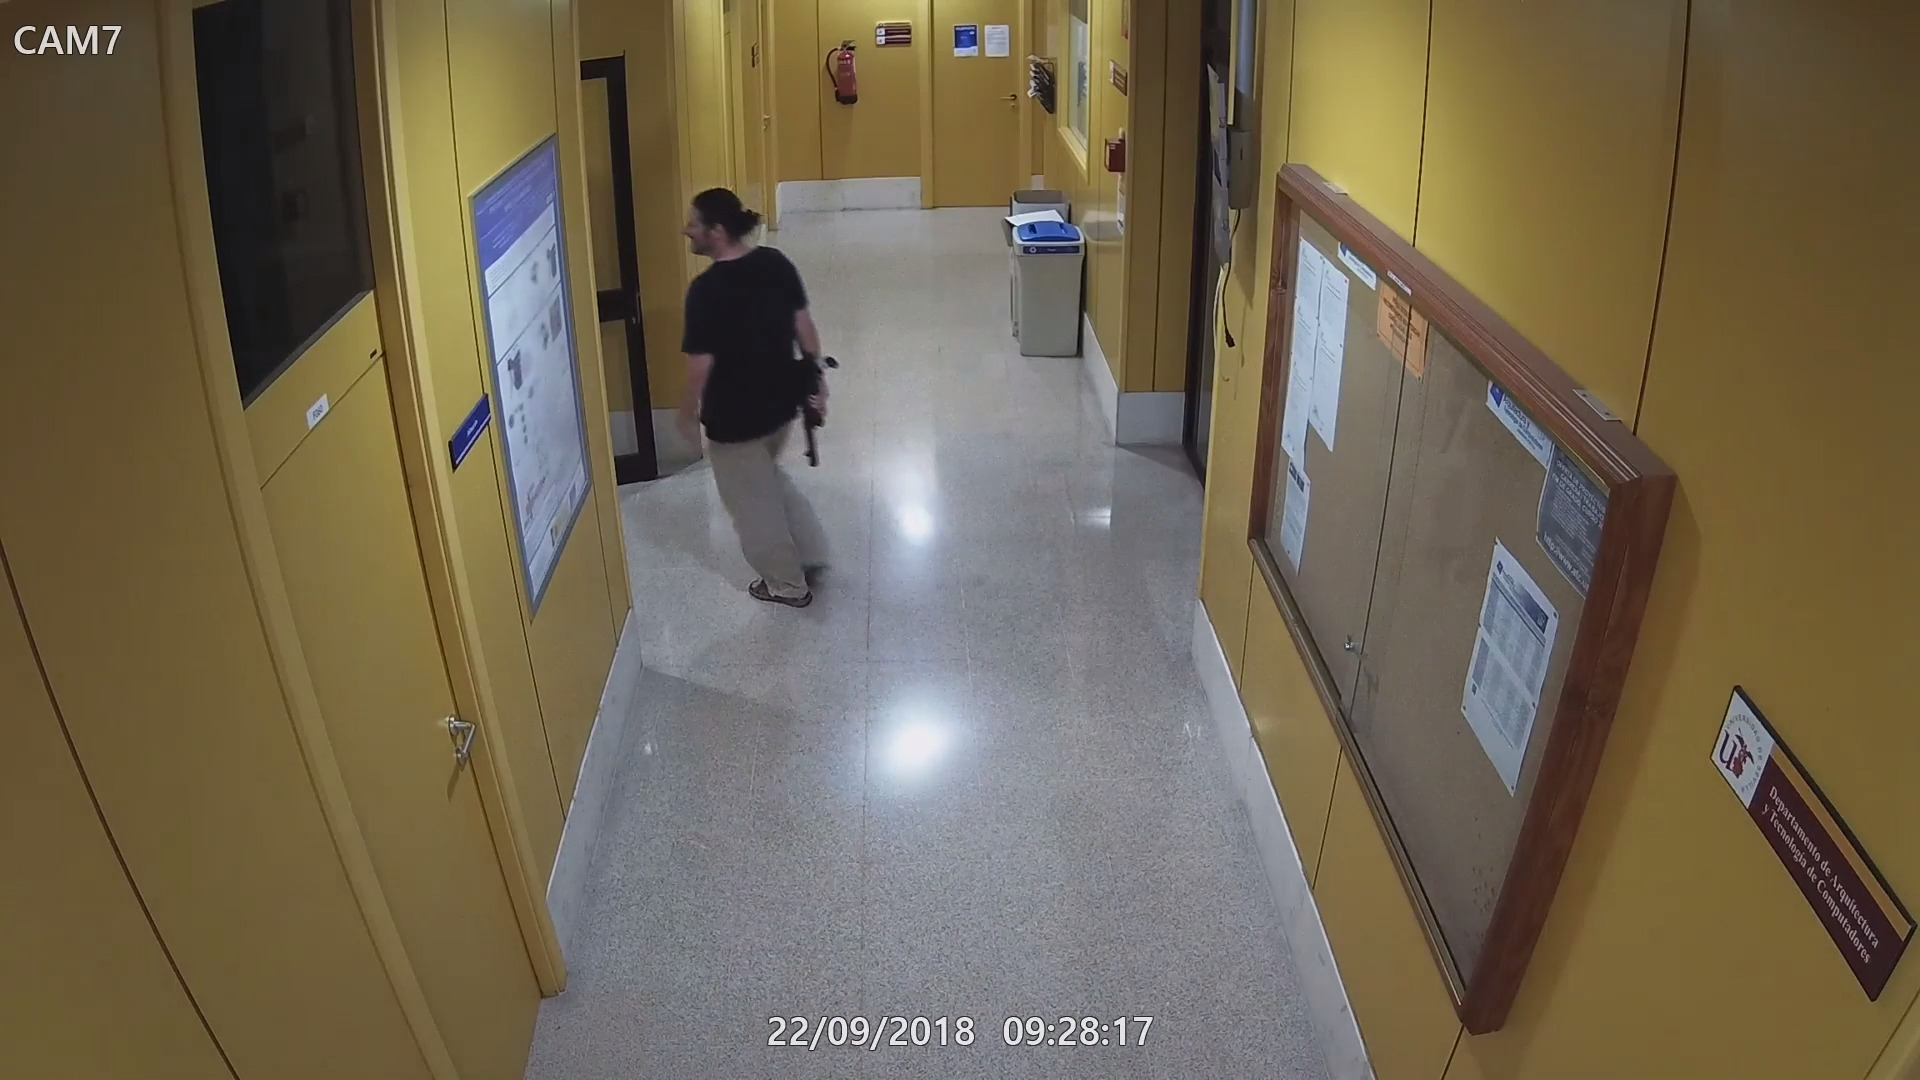Short_rifle: (793, 351, 843, 473)
